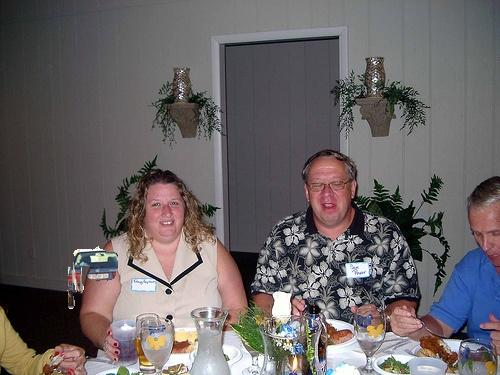tampered: (68, 247, 118, 309)
